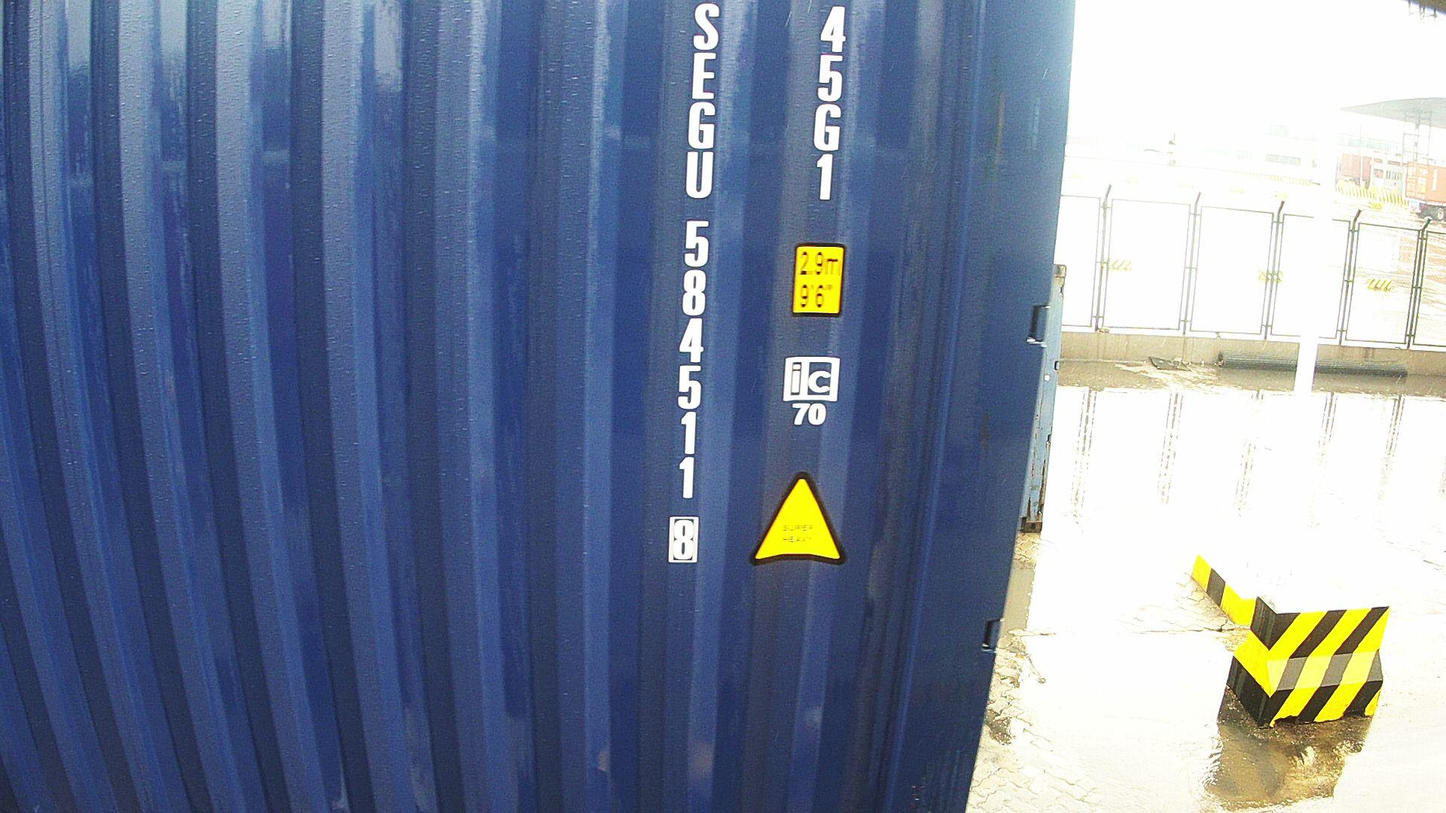container-numbers: (658, 5, 725, 564), (803, 1, 856, 209)
